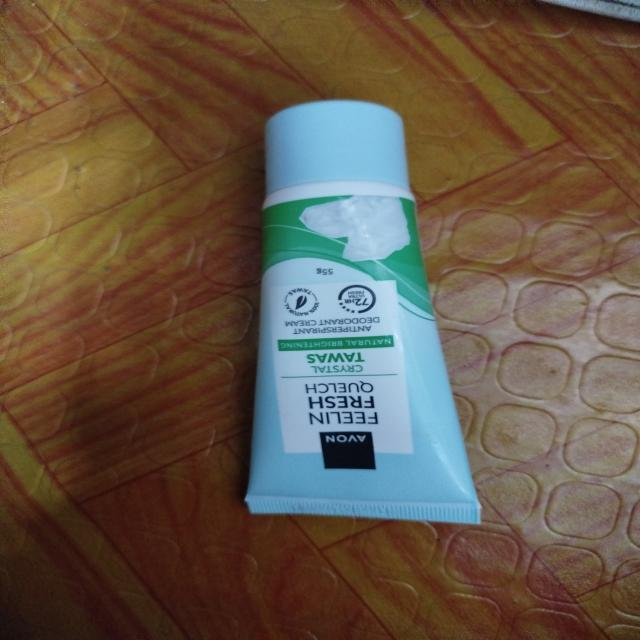plastic: (226, 69, 504, 549)
